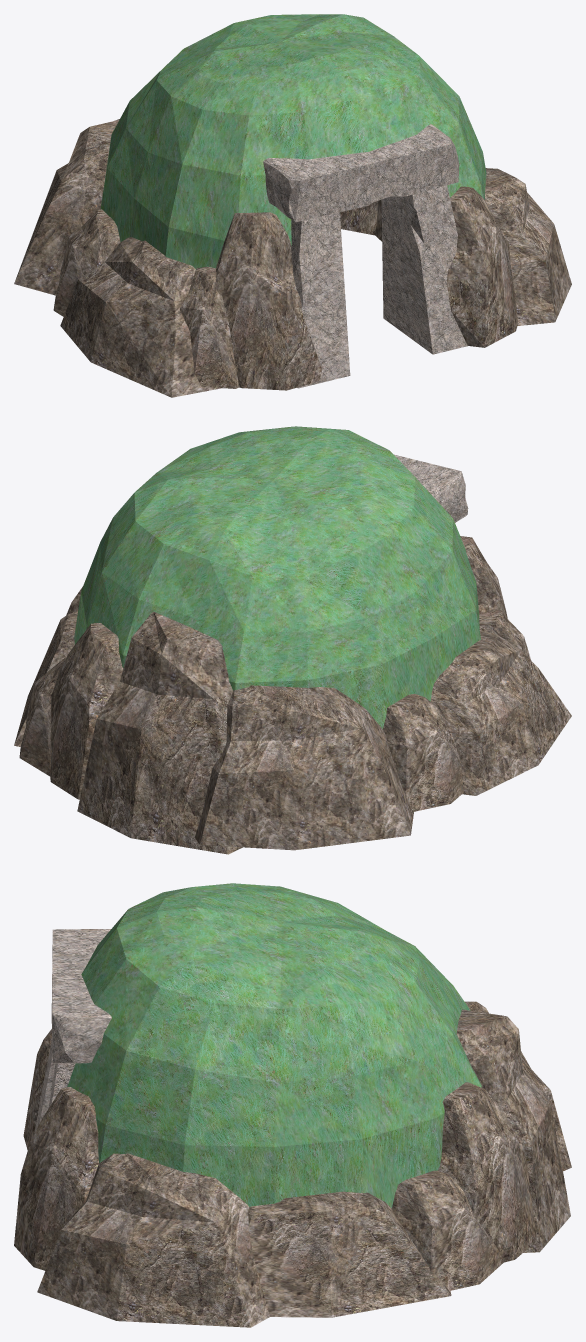
Rendered from thm_dath_mtn_clan_hut_s01_l0.fbx.
The picture shows the model from 3 angles, top to bottom: view 1: azimuth 30°, elevation 25°; view 2: azimuth 150°, elevation 25°; view 3: azimuth 270°, elevation 25°; orthographic projection. The views are drawn at different scales.
Visible parts, largest first — view 1: mesh_node; view 2: mesh_node; view 3: mesh_node.
Boxes of the visible parts, bbox=[...] form: mesh_node: bbox=[14, 14, 571, 397]; mesh_node: bbox=[14, 426, 571, 854]; mesh_node: bbox=[14, 883, 571, 1327].
Size of the model in its own units: 13.13 by 7.36 by 12.27.
